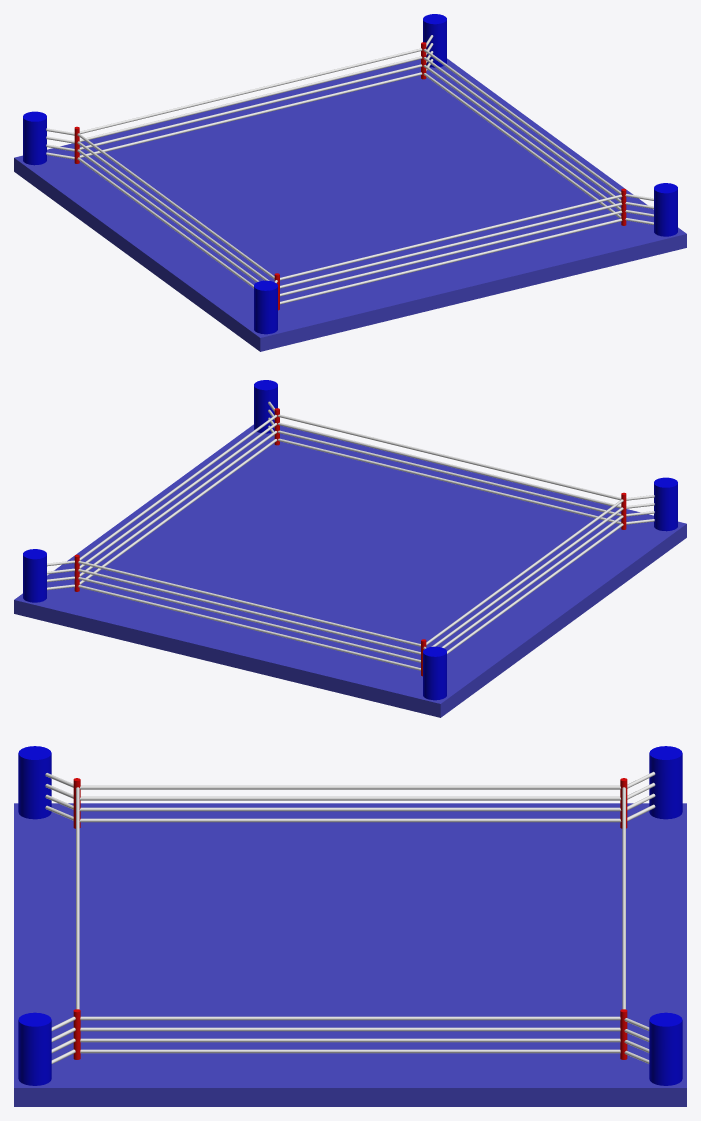
The model's file is BoxRing.fbx.
3 views of the same model, one above another, from view 1: azimuth 30°, elevation 25°; view 2: azimuth 150°, elevation 25°; view 3: azimuth 270°, elevation 25° (orthographic). The views are drawn at different scales.
Visible parts, largest first — view 1: pCylinder41; view 2: pCylinder41; view 3: pCylinder41.
Part boxes in pixels (x1,y1,x2,y2): pCylinder41: (14,14,686,351); pCylinder41: (14,380,686,717); pCylinder41: (14,746,686,1106).
Bounding box in the file's own units: 16 × 2.05 × 16.
